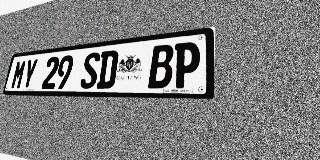2: (41, 56, 60, 89)
9: (55, 55, 75, 89)
B: (148, 44, 174, 88)
D: (96, 50, 119, 89)
M: (10, 60, 27, 89)
P: (172, 41, 201, 88)
S: (79, 52, 101, 89)
Y: (21, 58, 38, 89)
